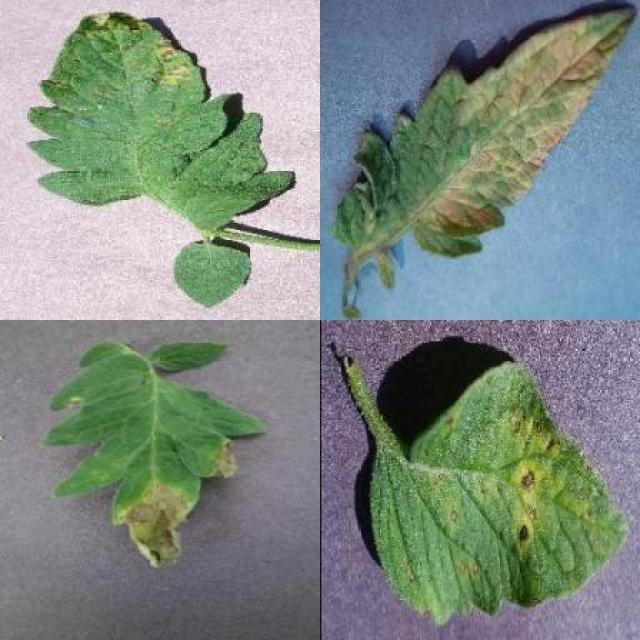Healthy: (175, 242, 252, 307)
Late Blight: (50, 340, 270, 574)
Leaf Mold: (335, 5, 638, 259)
Septoria: (366, 359, 624, 624), (26, 10, 295, 227)
